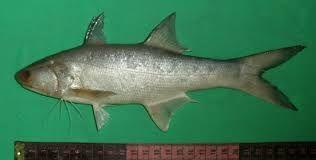Fourfinger Threadfish: (15, 12, 308, 133)
